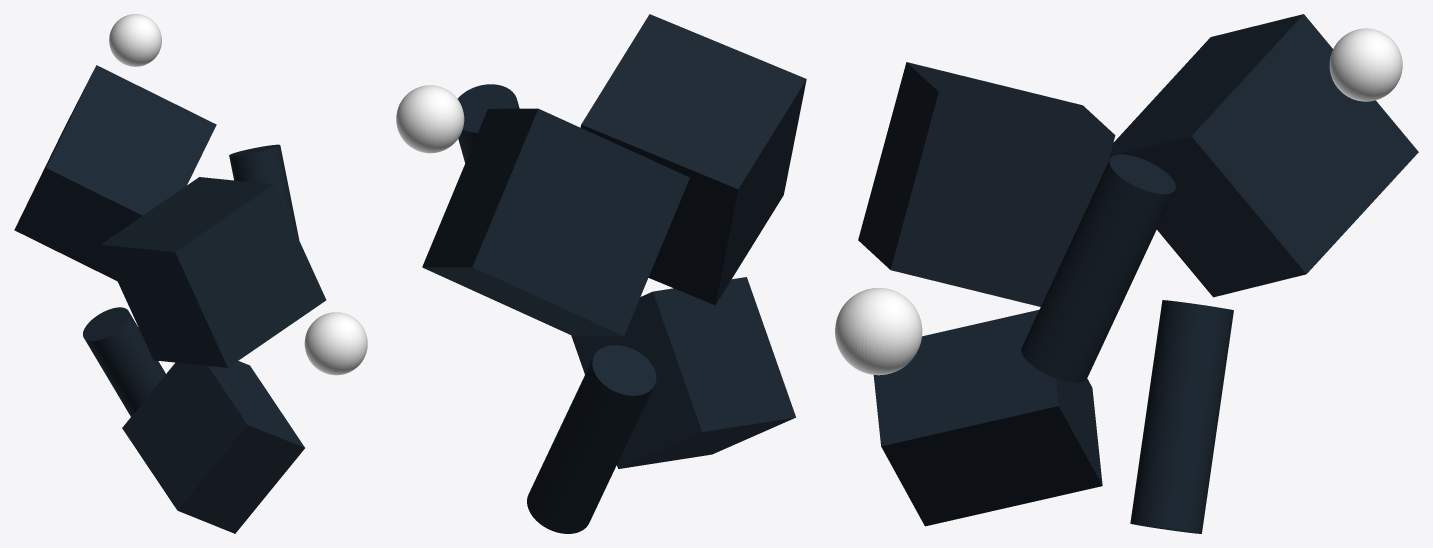
Rendered from background_portfolio101.gltf.
The picture shows the model from 3 angles, left to right: view 1: azimuth 30°, elevation 25°; view 2: azimuth 150°, elevation 25°; view 3: azimuth 270°, elevation 25°; orthographic projection. The views are drawn at different scales.
Parts seen in each view (by area): view 1: Sphere; view 2: Sphere; view 3: Sphere.
Part boxes in pixels (left/top/right/bottom): Sphere: left=14, top=14, right=367, bottom=533; Sphere: left=396, top=14, right=806, bottom=533; Sphere: left=835, top=14, right=1418, bottom=533.
Size of the model in its own units: 3.56 by 6.35 by 6.28.
